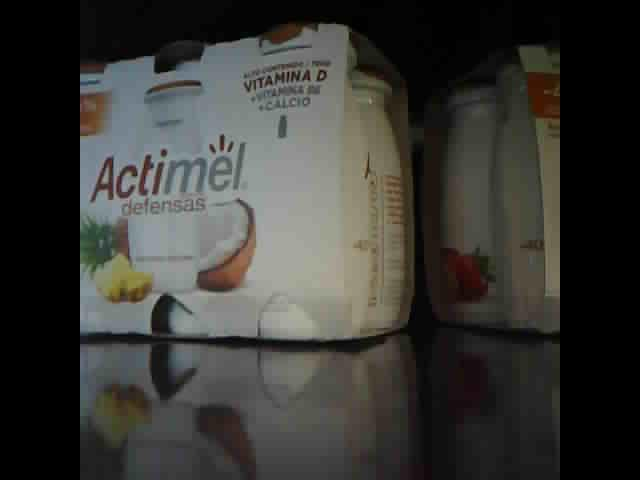actimel: (82, 20, 416, 343), (425, 42, 560, 338)
